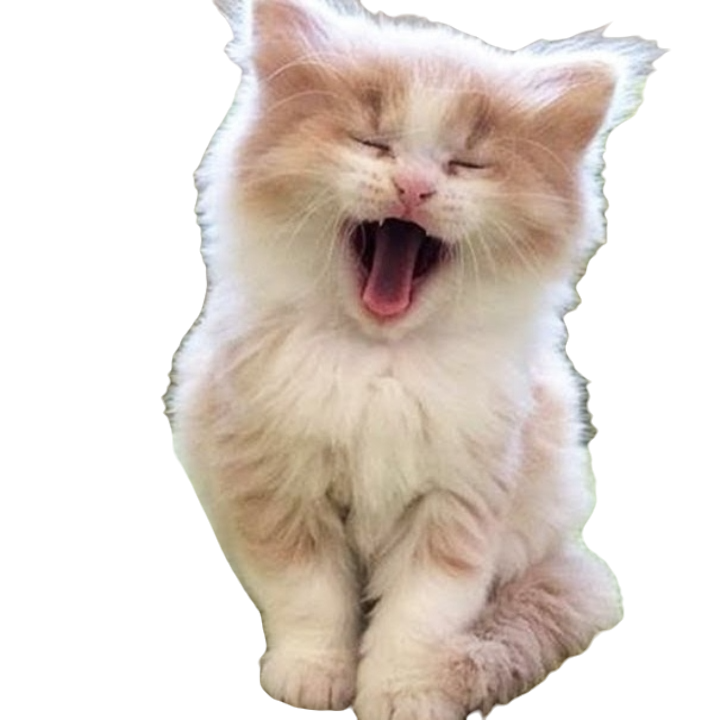Cat: (65, 0, 708, 720)
